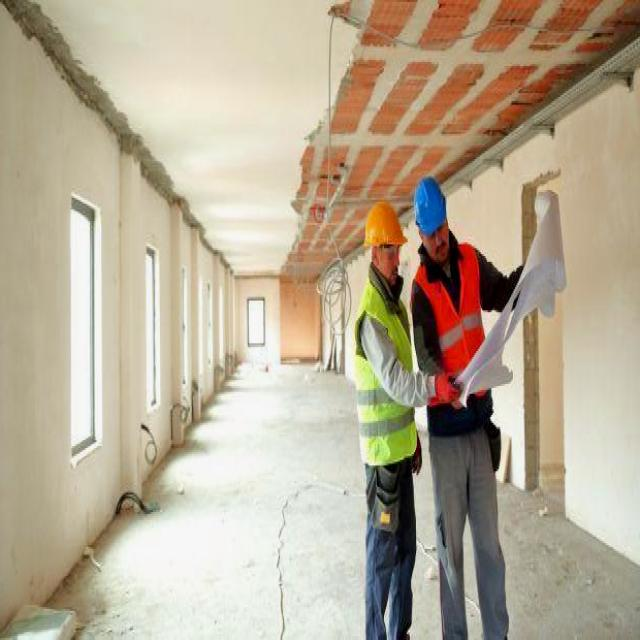face_nomask: (427, 221, 452, 268), (381, 239, 401, 281)
hand_glove: (430, 370, 460, 406)
head_helmet: (412, 176, 448, 236), (364, 202, 405, 248)
person: (416, 178, 499, 638), (363, 205, 412, 640)
vest: (357, 285, 407, 464), (425, 256, 479, 398)
